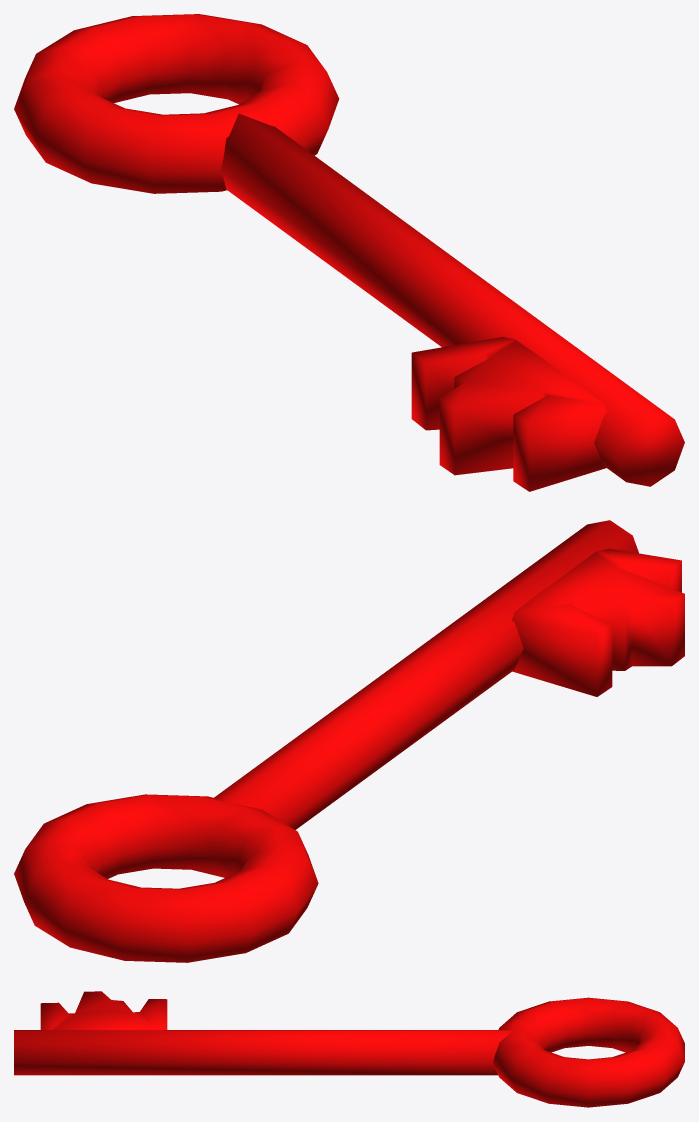
File: Key.dae
3 views of the same model, one above another, from view 1: azimuth 30°, elevation 25°; view 2: azimuth 150°, elevation 25°; view 3: azimuth 270°, elevation 25° (orthographic). The views are drawn at different scales.
Visible parts, largest first — view 1: Key; view 2: Key; view 3: Key.
Boxes of the visible parts, x1,y1,x2,y2 form: Key: [14, 14, 684, 491]; Key: [14, 520, 684, 962]; Key: [14, 991, 684, 1107].
Size of the model in its own units: 2.7 by 9.16 by 0.6997.
